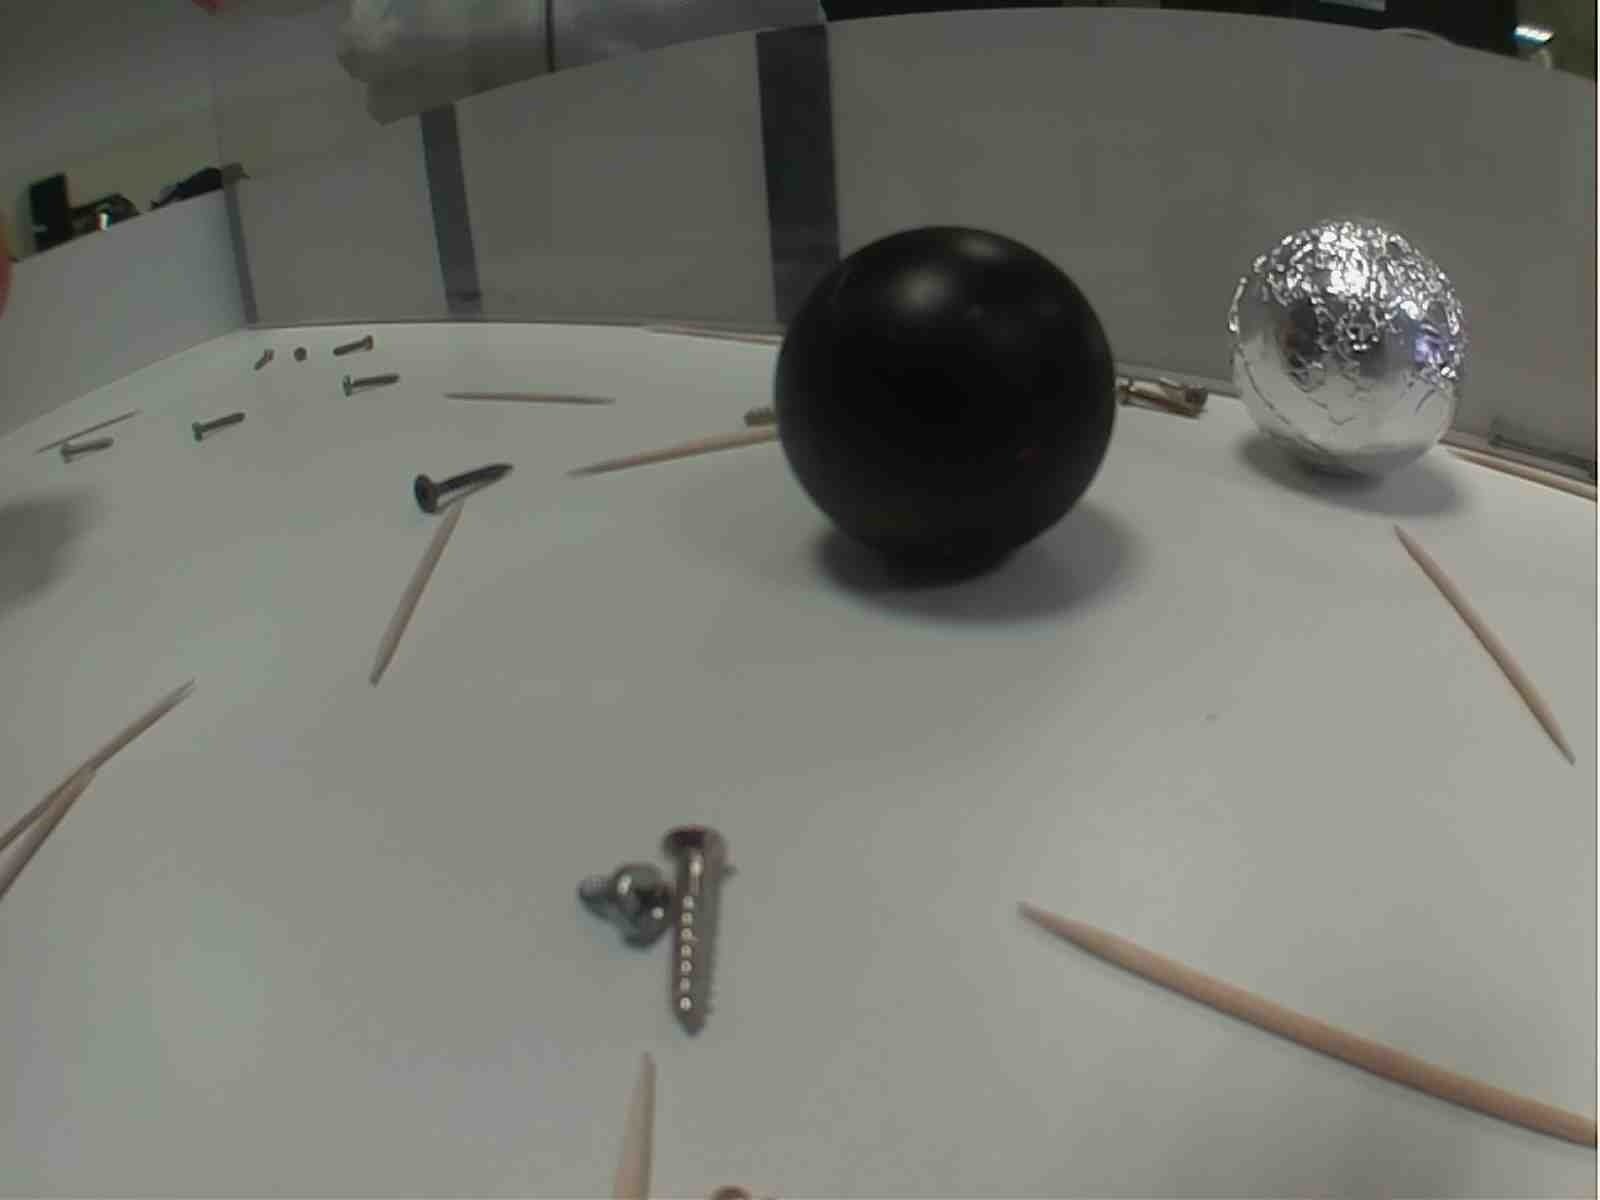bianca: (1214, 222, 1474, 482)
nera: (769, 227, 1123, 580)
